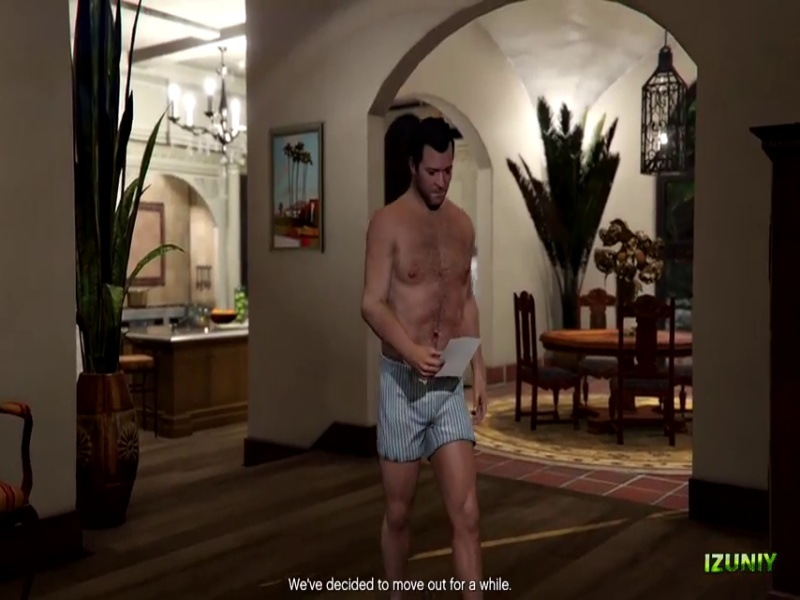human: (356, 120, 494, 583)
